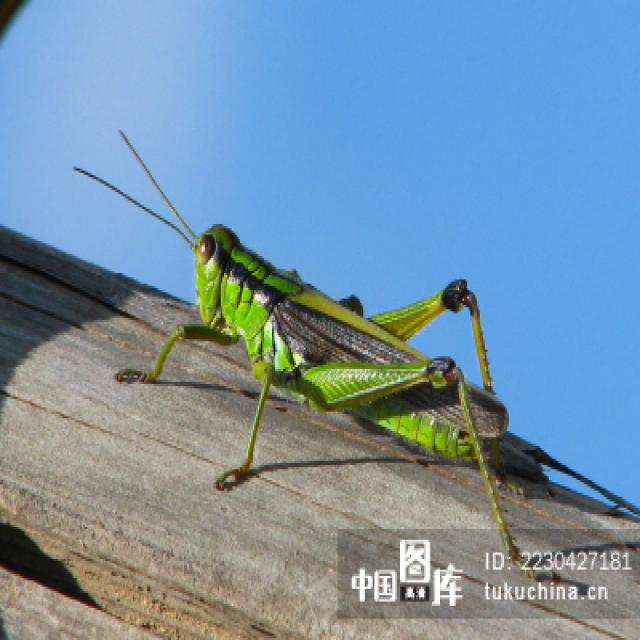ZhaMeng: (84, 122, 570, 511)
